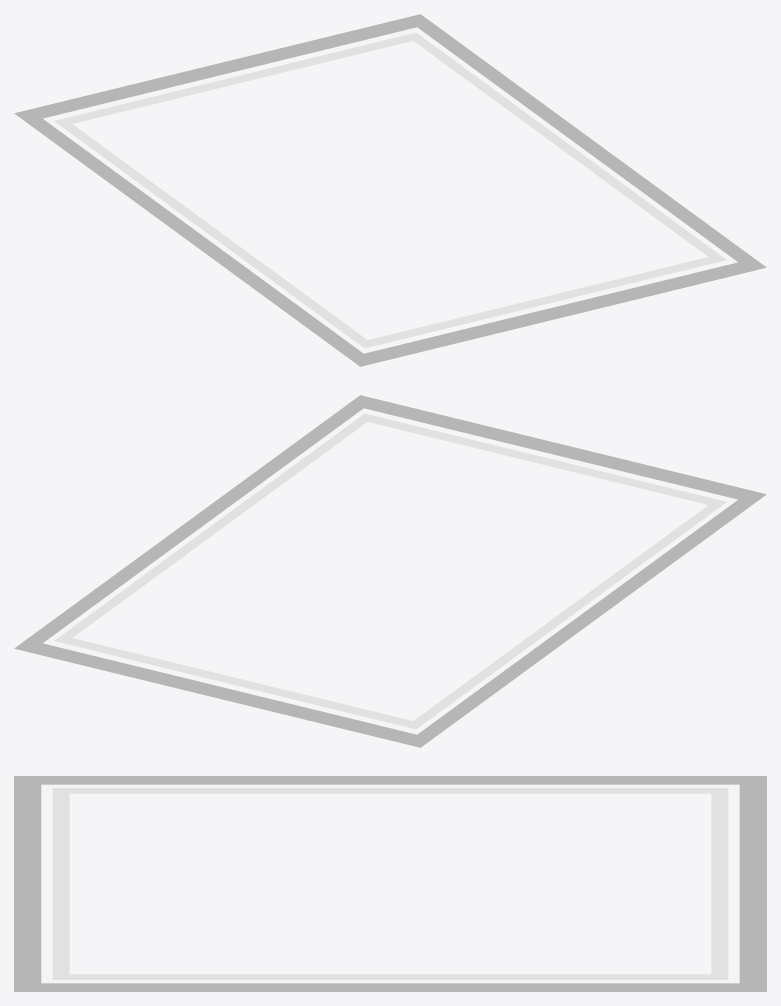
The picture shows the model from 3 angles, top to bottom: view 1: azimuth 30°, elevation 25°; view 2: azimuth 150°, elevation 25°; view 3: azimuth 270°, elevation 25°; orthographic projection. The views are drawn at different scales.
Visible parts, largest first — view 1: box, box_inside; view 2: box, box_inside; view 3: box, box_inside.
Boxes of the visible parts, x1,y1,x2,y2 form: box: (14, 14, 766, 366); box_inside: (54, 32, 726, 348); box: (14, 395, 766, 747); box_inside: (54, 413, 726, 729); box: (14, 776, 766, 991); box_inside: (52, 788, 728, 979).
Bounding box in the file's own units: 2.31 × 6.9e-08 × 3.41.
